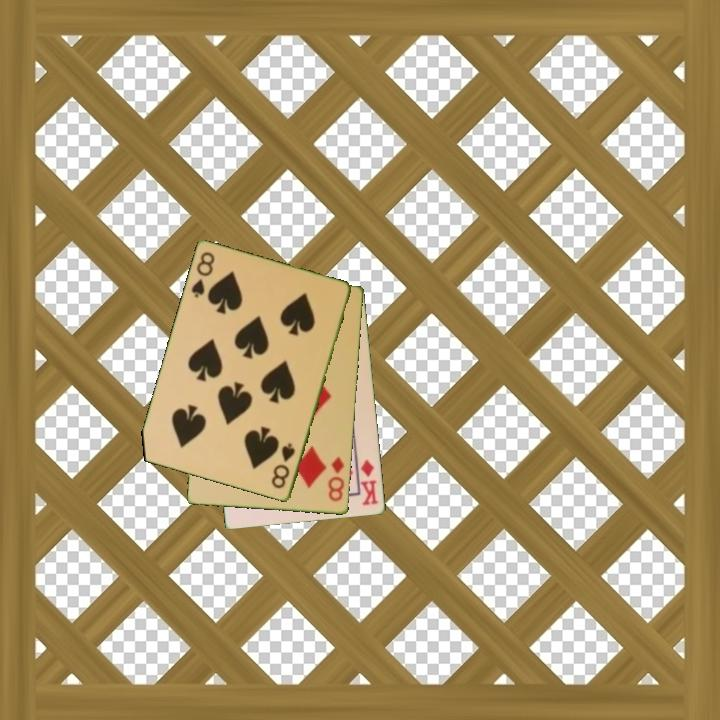8d: (325, 453, 347, 505)
8s: (268, 440, 298, 492), (188, 249, 218, 301)
Kd: (357, 456, 381, 508)
